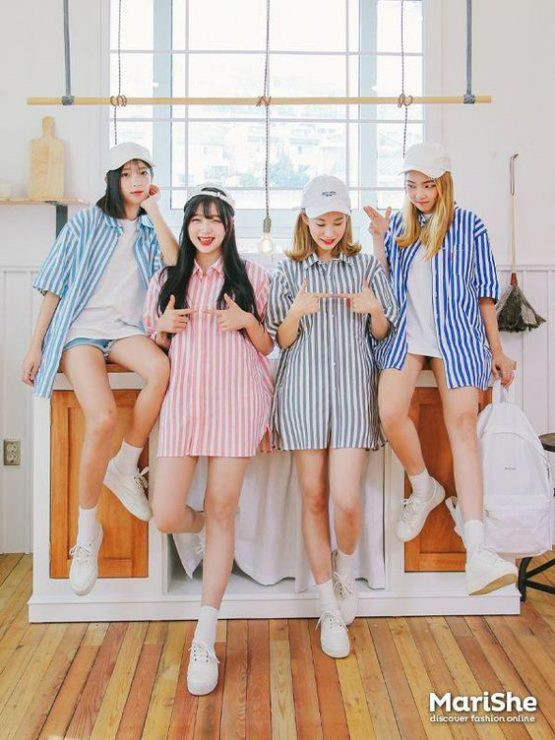people: (372, 143, 512, 608), (278, 174, 379, 664), (51, 137, 160, 587), (168, 181, 252, 691)
